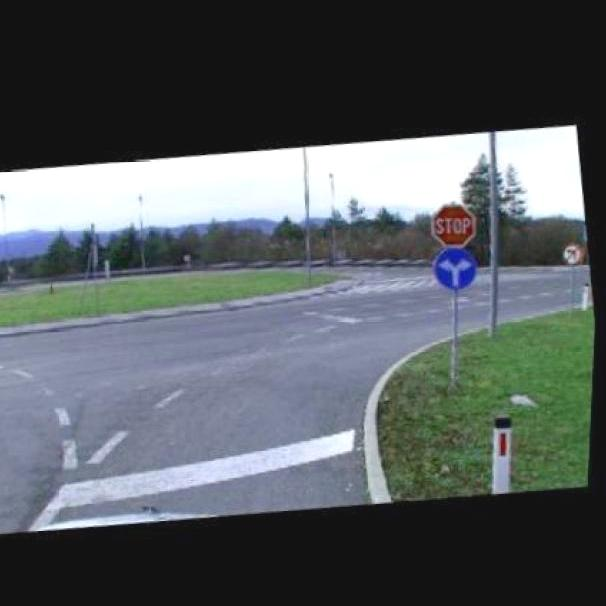stop_sign: (427, 192, 482, 246)
